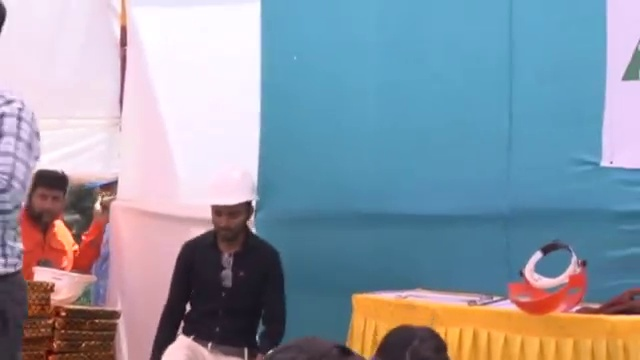helmet: (31, 266, 99, 305), (204, 180, 261, 210)
helmet_off: (372, 320, 451, 360), (21, 170, 68, 232), (69, 186, 100, 222)
helmet_on: (204, 179, 261, 239)
person: (148, 176, 290, 360), (0, 91, 43, 358), (16, 167, 106, 281)
